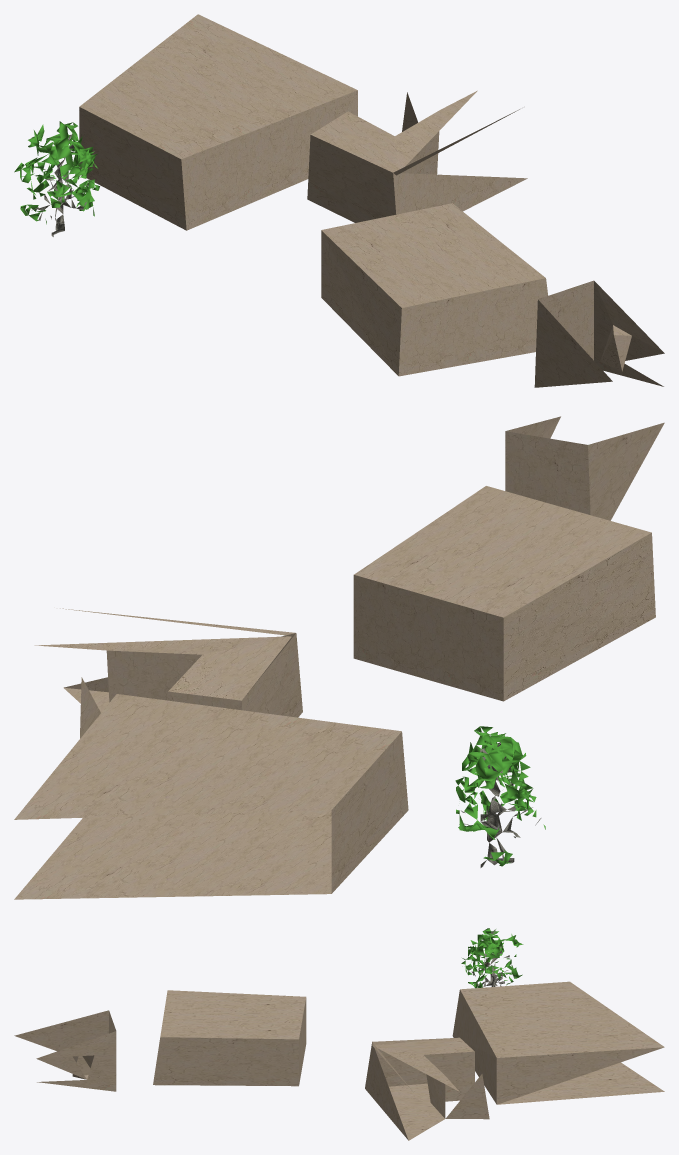
File: tile_-3_1.gltf
The picture shows the model from 3 angles, top to bottom: view 1: azimuth 30°, elevation 25°; view 2: azimuth 150°, elevation 25°; view 3: azimuth 270°, elevation 25°; orthographic projection. The views are drawn at different scales.
Parts seen in each view (by area): view 1: Plane.011@tile_-3_1, Bodhi Tree_Bodhi_front_2_Mat_0.044@tile_-3_1; view 2: Plane.011@tile_-3_1, Bodhi Tree_Bodhi_front_2_Mat_0.044@tile_-3_1; view 3: Plane.011@tile_-3_1, Bodhi Tree_Bodhi_front_2_Mat_0.044@tile_-3_1.
Part boxes in pixels (box(x1,y1,x2,y2)): Plane.011@tile_-3_1: box(79, 14, 664, 387); Bodhi Tree_Bodhi_front_2_Mat_0.044@tile_-3_1: box(14, 121, 99, 236); Plane.011@tile_-3_1: box(14, 416, 664, 899); Bodhi Tree_Bodhi_front_2_Mat_0.044@tile_-3_1: box(455, 726, 545, 867); Plane.011@tile_-3_1: box(14, 981, 664, 1140); Bodhi Tree_Bodhi_front_2_Mat_0.044@tile_-3_1: box(461, 928, 523, 988).
Size of the model in its own units: 44.36 by 10.64 by 80.19.
3 materials, 2 textured.
